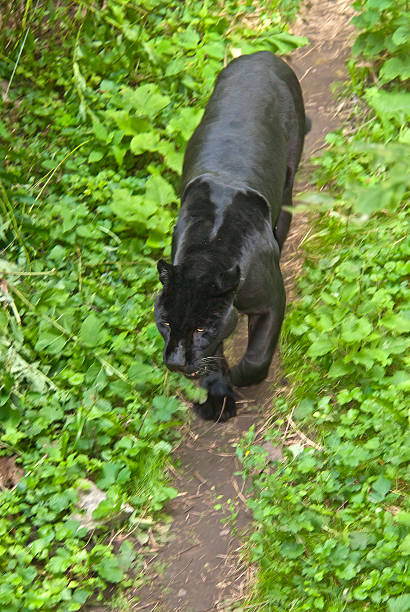panther: (123, 238, 248, 383)
